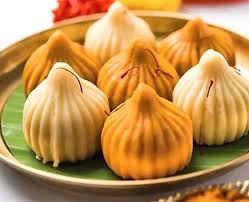modak: (106, 76, 199, 184), (22, 59, 116, 162), (171, 44, 249, 141), (11, 30, 115, 95), (93, 37, 180, 106), (156, 13, 244, 75), (80, 2, 161, 61)
